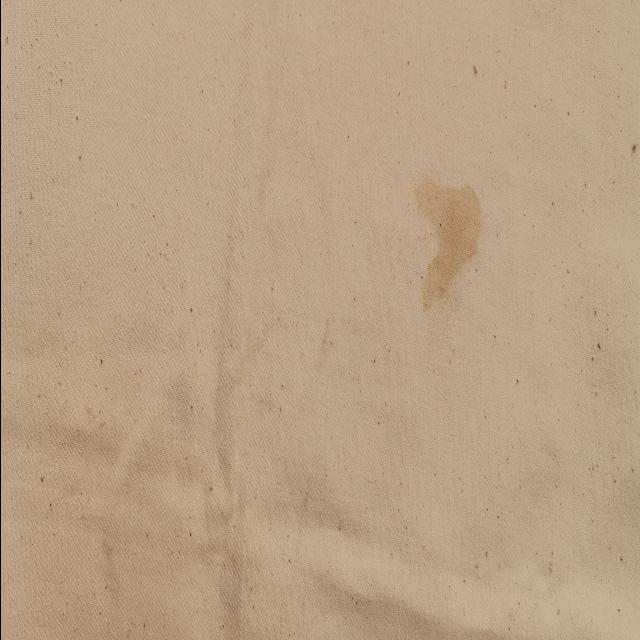taaaches: (404, 150, 496, 315)
